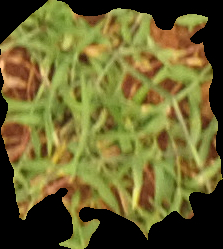grass: (1, 1, 220, 247)
